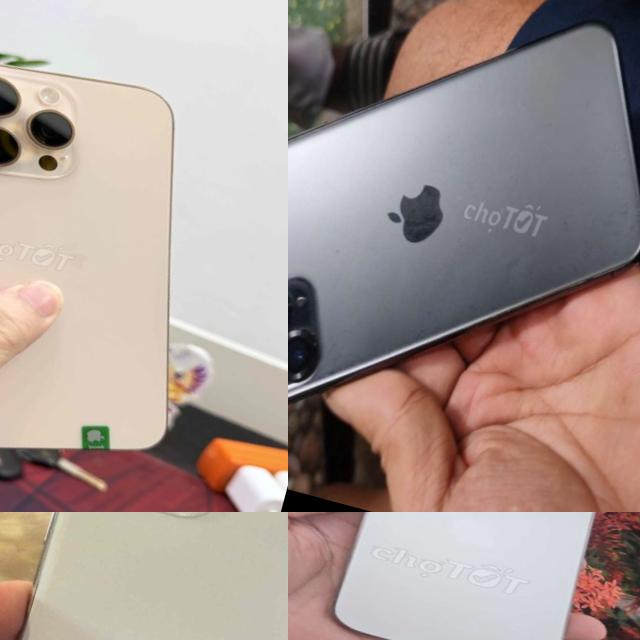gen_11: (288, 24, 640, 402), (0, 512, 288, 640)
gen_14: (315, 512, 629, 640)
gen_16: (0, 64, 173, 450)
